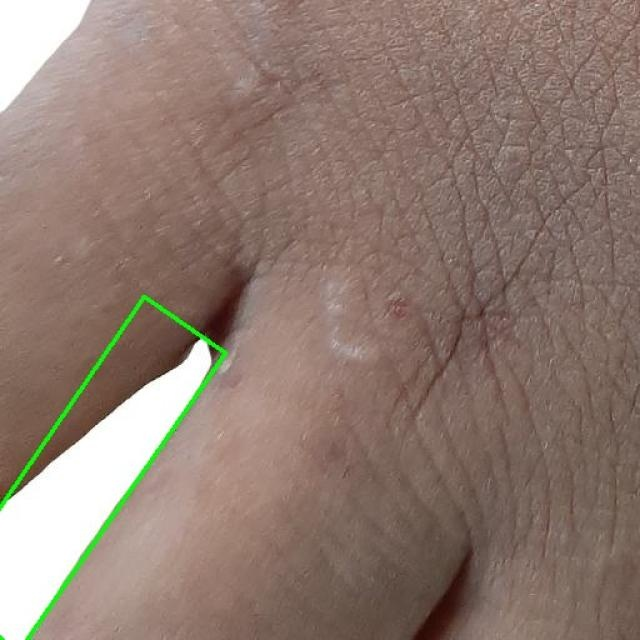Scabies: (0, 297, 232, 640)
